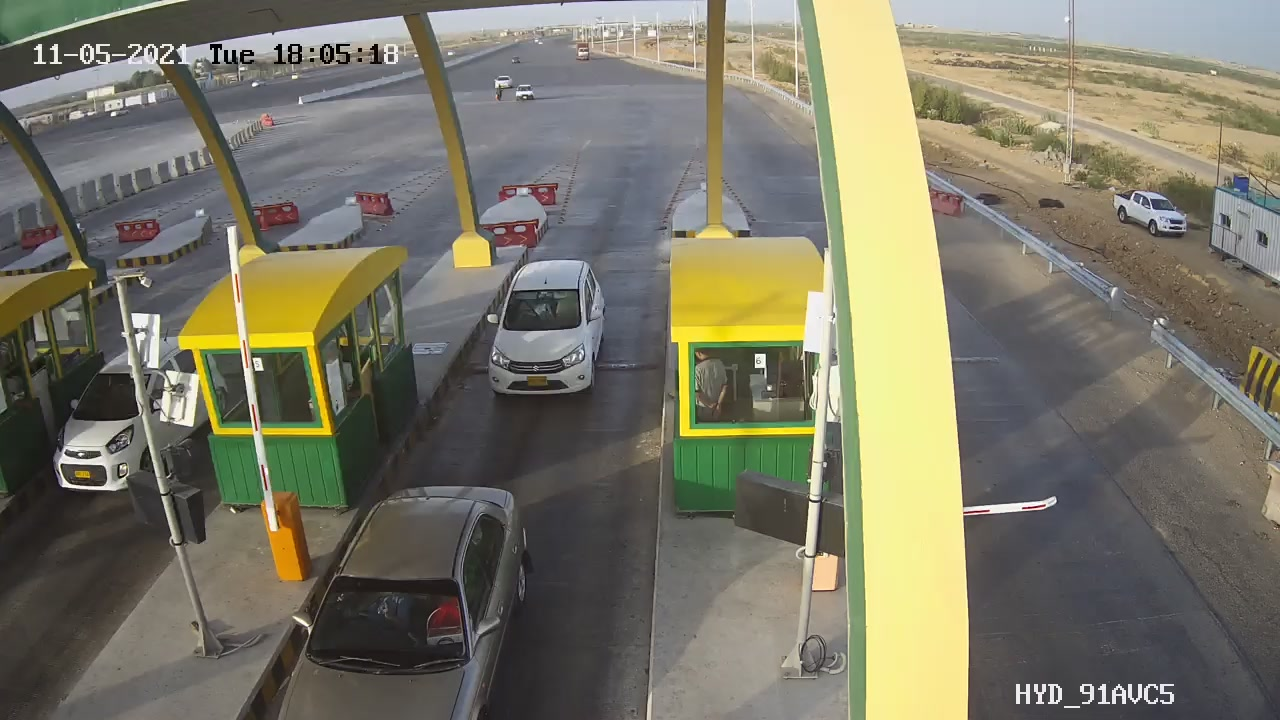F1: (476, 242, 621, 420)
